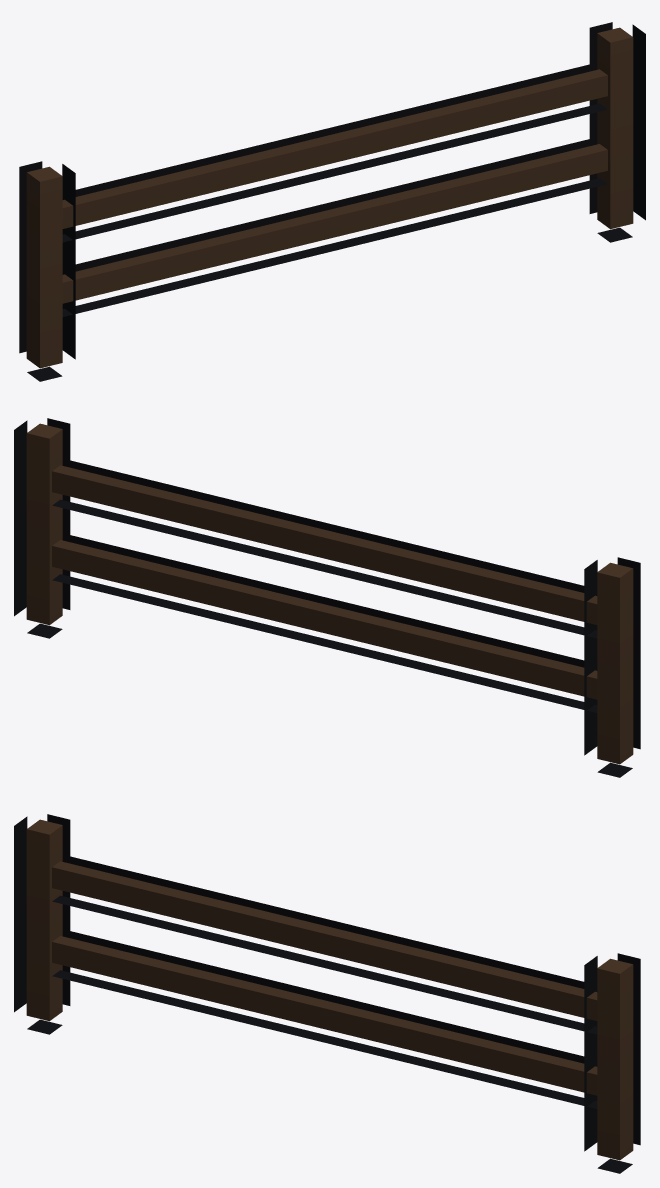
Rendered from ranch_fence.glb.
3 views of the same model, one above another, from view 1: azimuth 30°, elevation 25°; view 2: azimuth 150°, elevation 25°; view 3: azimuth 330°, elevation 25° (orthographic).
Parts seen in each view (by area): view 1: prop; view 2: prop; view 3: prop.
Boxes of the visible parts, <box> form: prop: <box>19,22,645,381</box>; prop: <box>14,418,640,777</box>; prop: <box>14,814,640,1173</box>.
Bounding box in the file's own units: 4.34 × 1.43 × 0.34.
